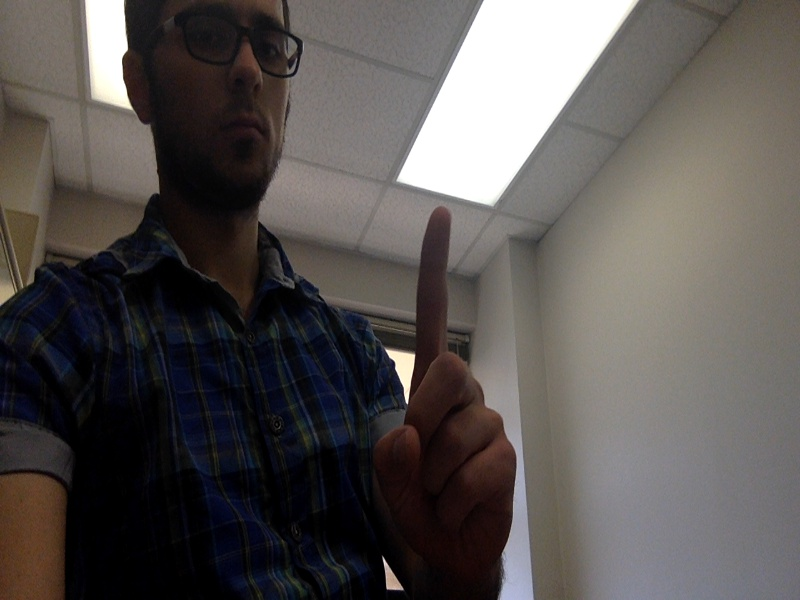1-hand: (371, 198, 520, 565)
